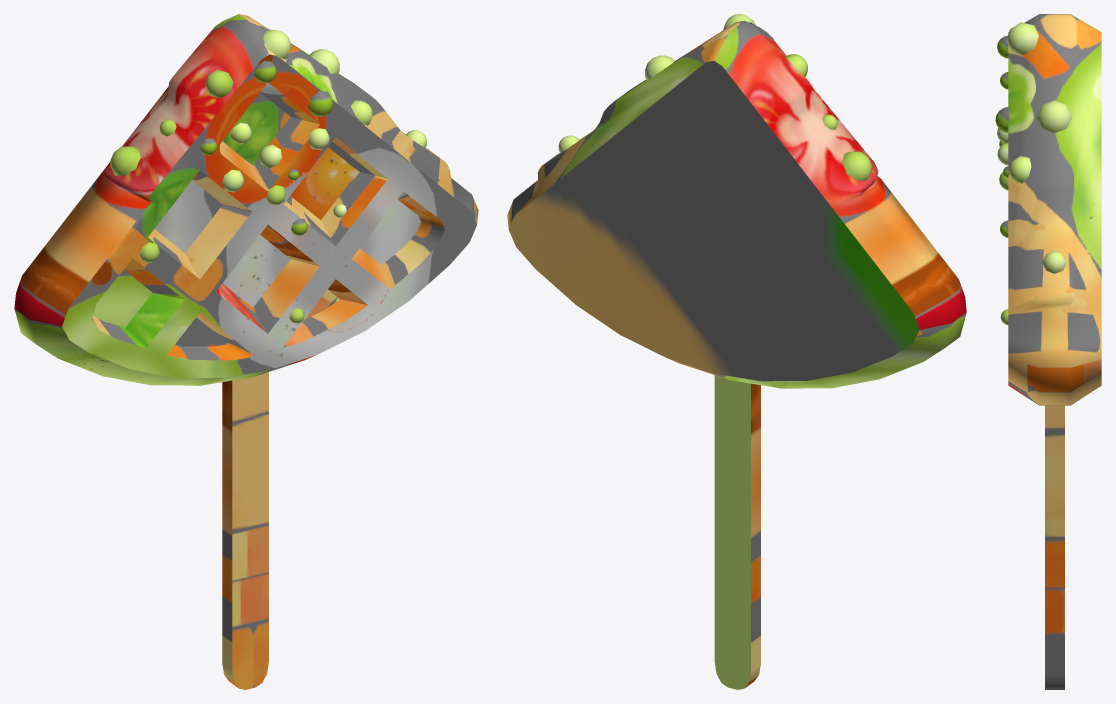
File: 4_1_waffel.fbx
The picture shows the model from 3 angles, left to right: view 1: azimuth 30°, elevation 25°; view 2: azimuth 150°, elevation 25°; view 3: azimuth 270°, elevation 25°; orthographic projection. The views are drawn at different scales.
Visible parts, largest first — view 1: Plane.133; view 2: Plane.133; view 3: Plane.133.
Part boxes in pixels (x1,y1,x2,y2): Plane.133: (14,14,478,689); Plane.133: (507,14,966,689); Plane.133: (995,14,1101,689).
Size of the model in its own units: 4.07 by 5.77 by 0.8247.
